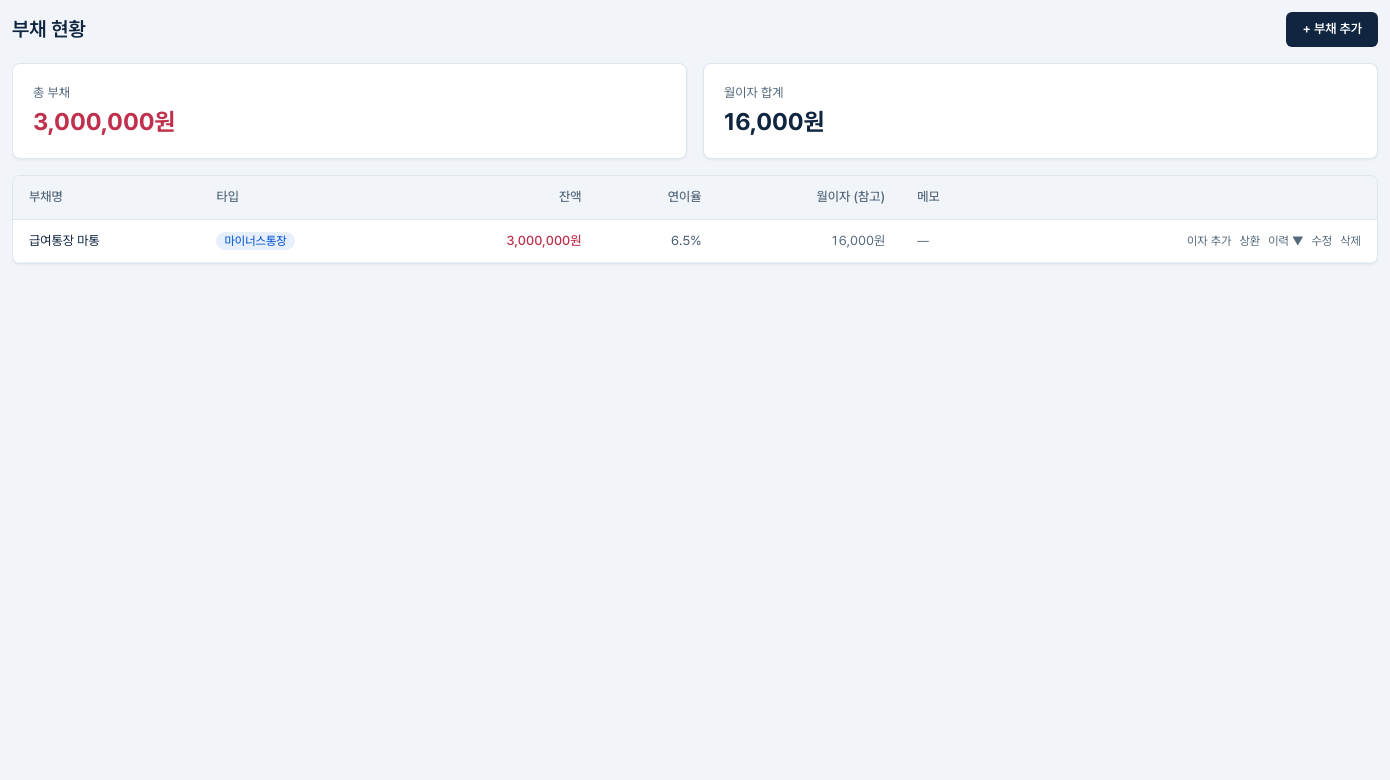
Scenario: 이력 펼치기 › 다시 누르면 접는다
Check: the text "급여통장 마통" is shown, box 13,219 -> 200,263
Click the button "이력 ▼" at (1286, 241), box 1268,233 -> 1304,249
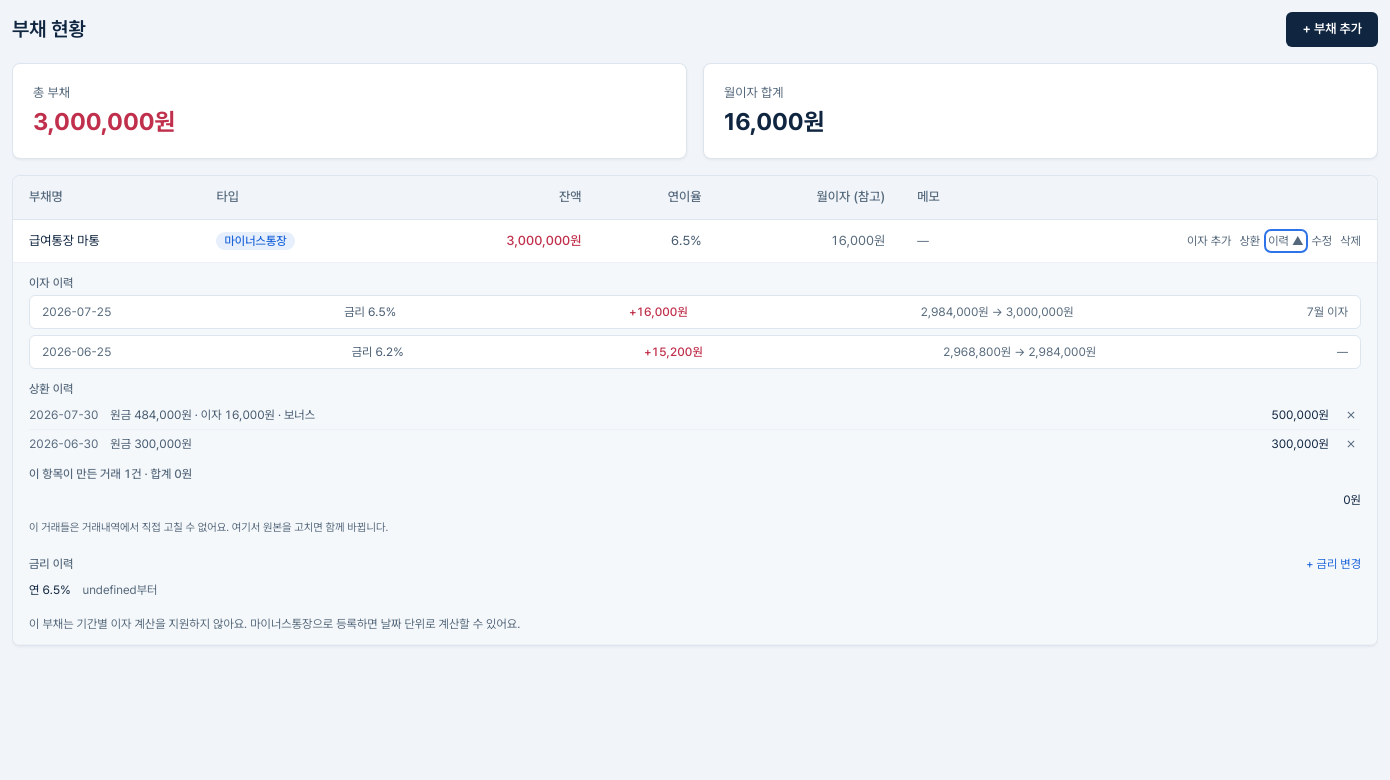
Check: the heading "이자 이력" is shown, box 29,276 -> 73,290
Click the button "이력 ▲" at (1286, 241), box 1268,233 -> 1304,249
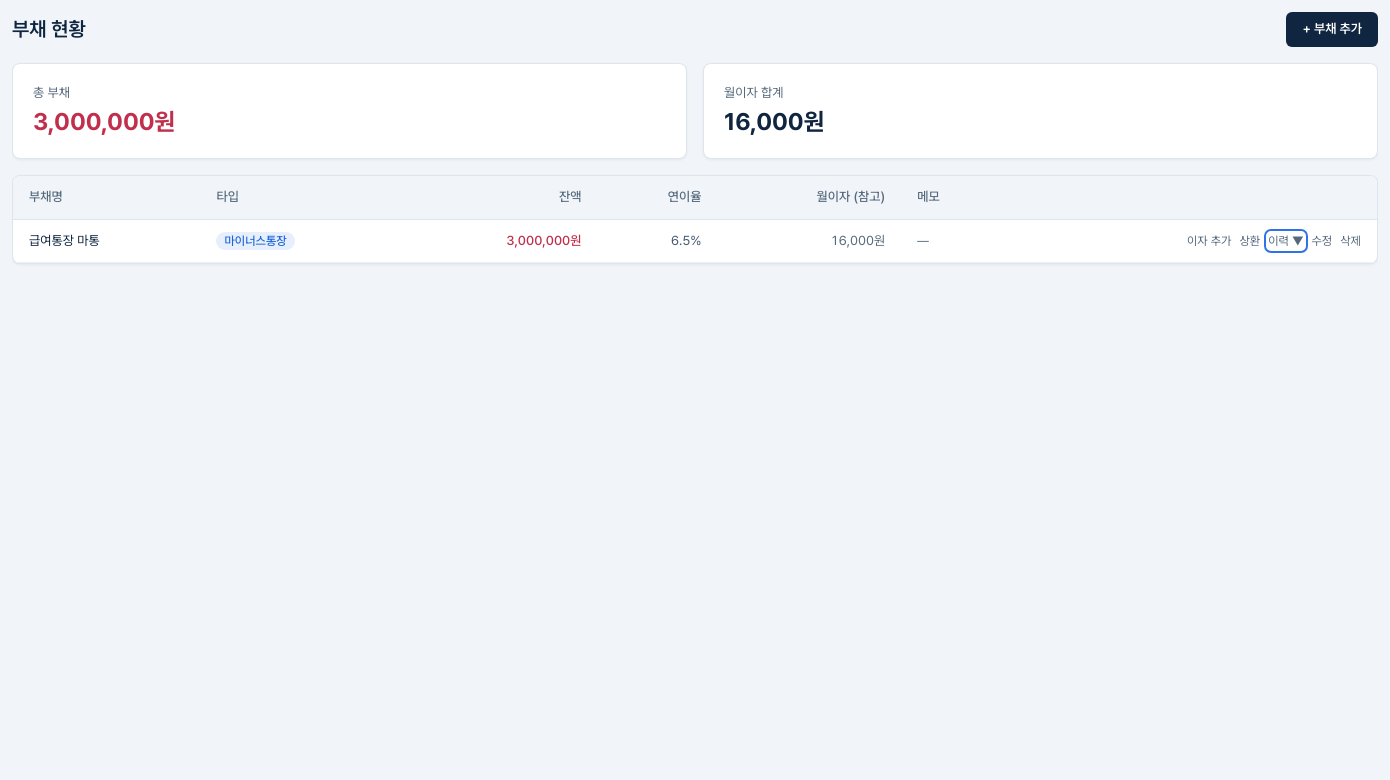
Check: the heading "이자 이력" is gone
